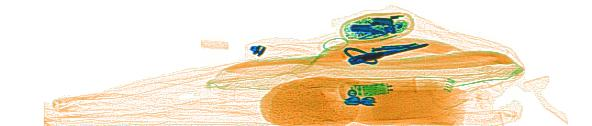battery: (354, 80, 390, 98)
